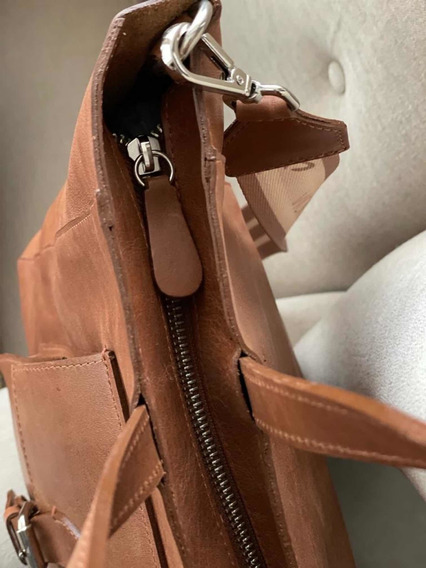cartera: (16, 5, 426, 568)
